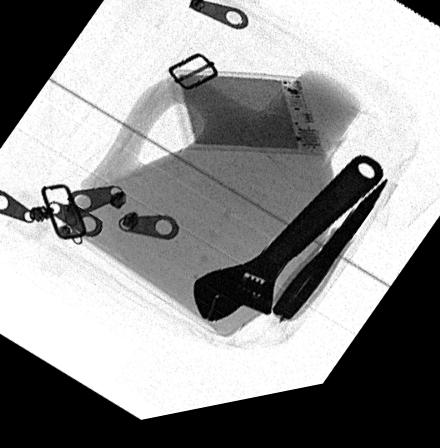Pliers: (266, 193, 390, 332)
Powerbank: (167, 75, 324, 168)
Wrench: (190, 167, 384, 329)
